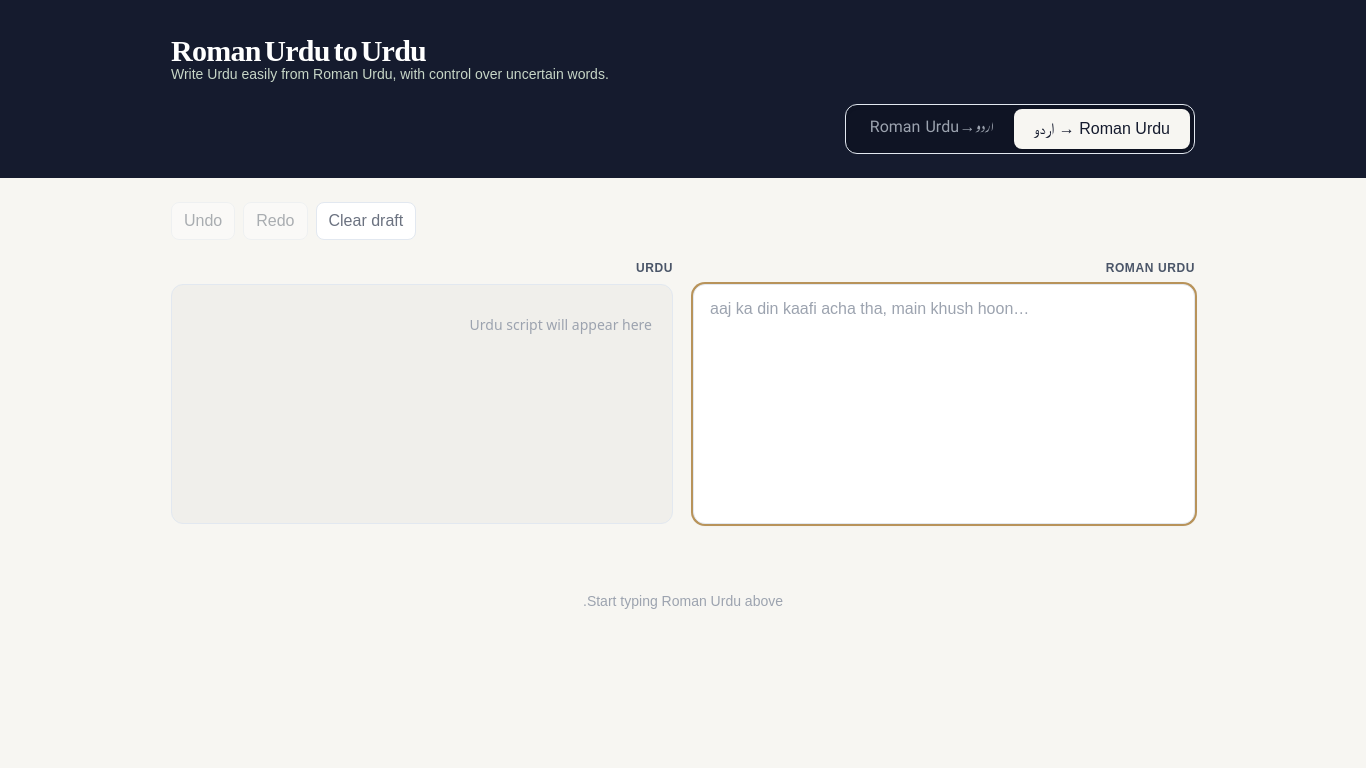
Test: 3. clicking transfer seeds Urdu textarea with final output
In the text box with id "roman-input": (944, 404) [693,284,1195,524], type "aaj theek hai"
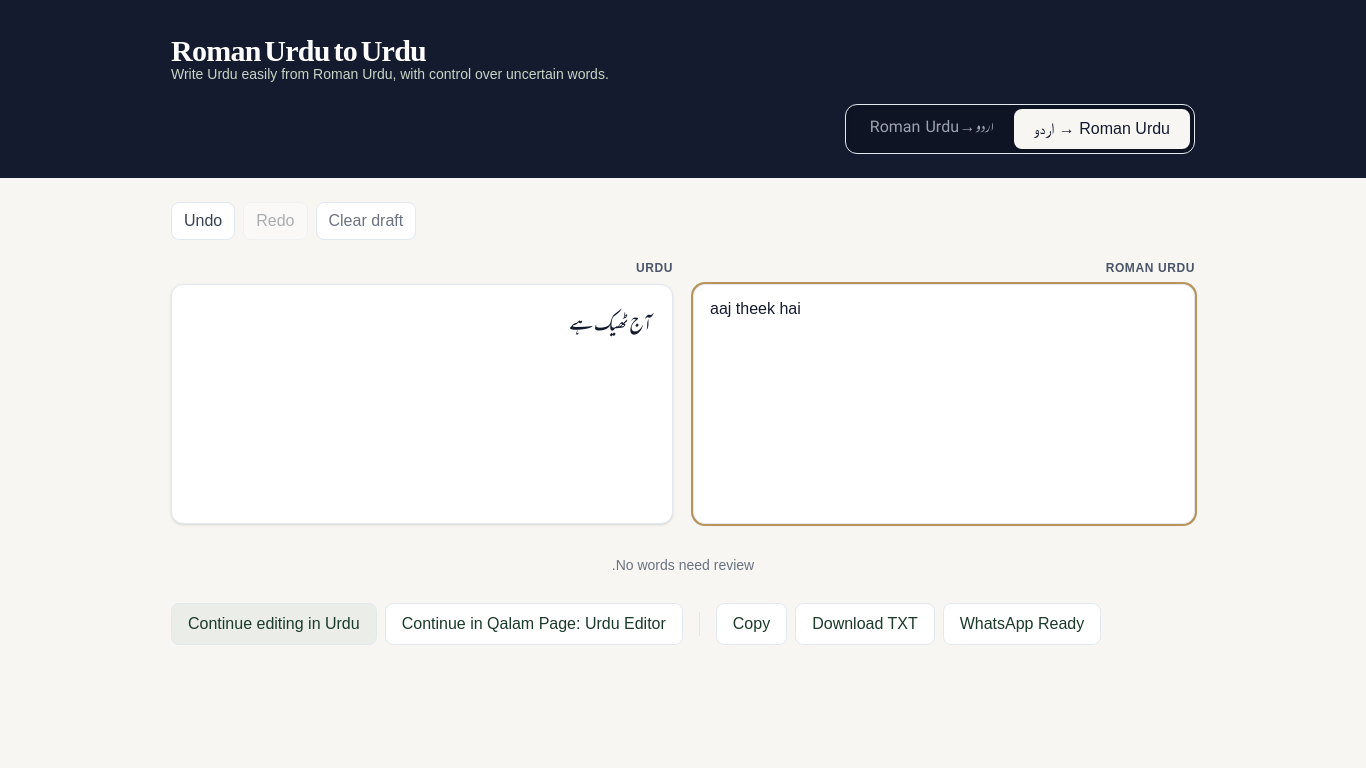
Click the button with test id "writer-continue-editing": (274, 624) [171,603,377,645]
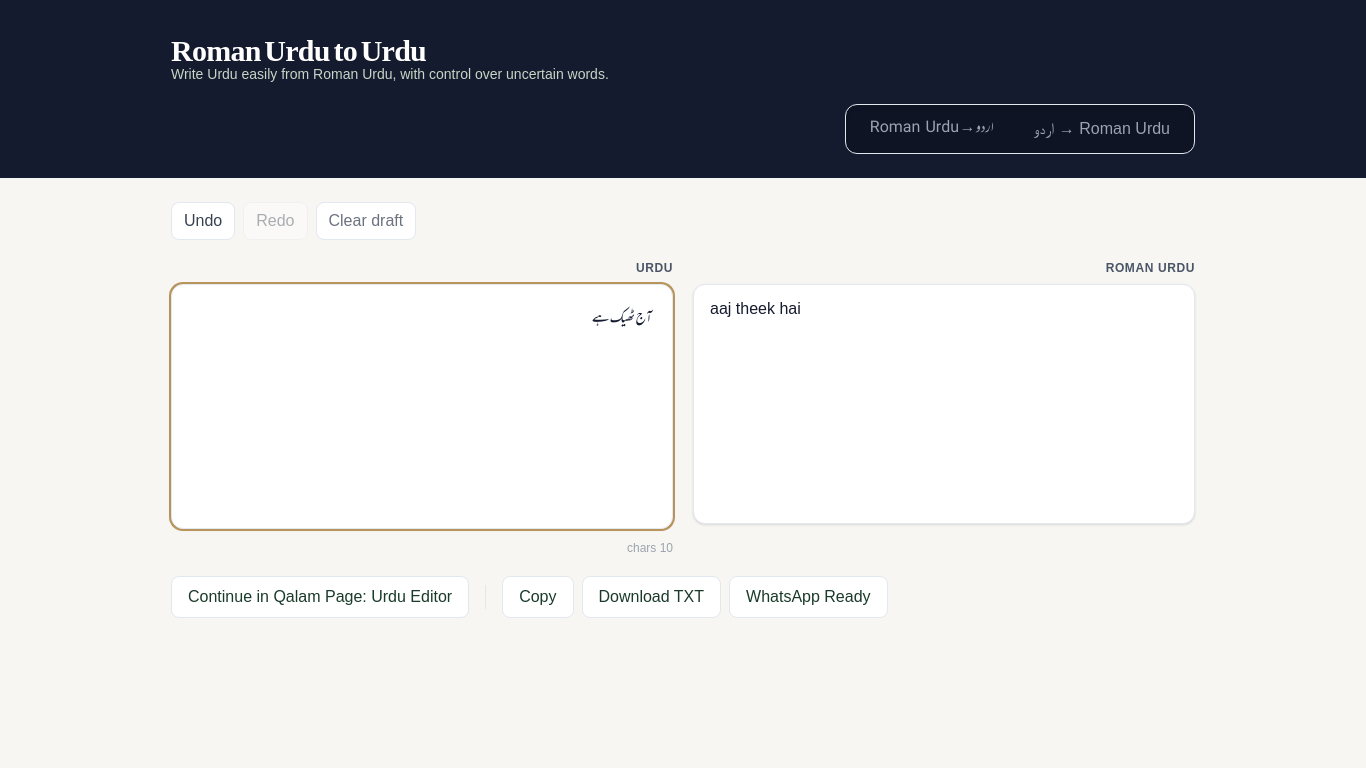
Check: the text box with id "urdu-input" holds "آج ٹھیک ہے", box [171,284,673,529]
